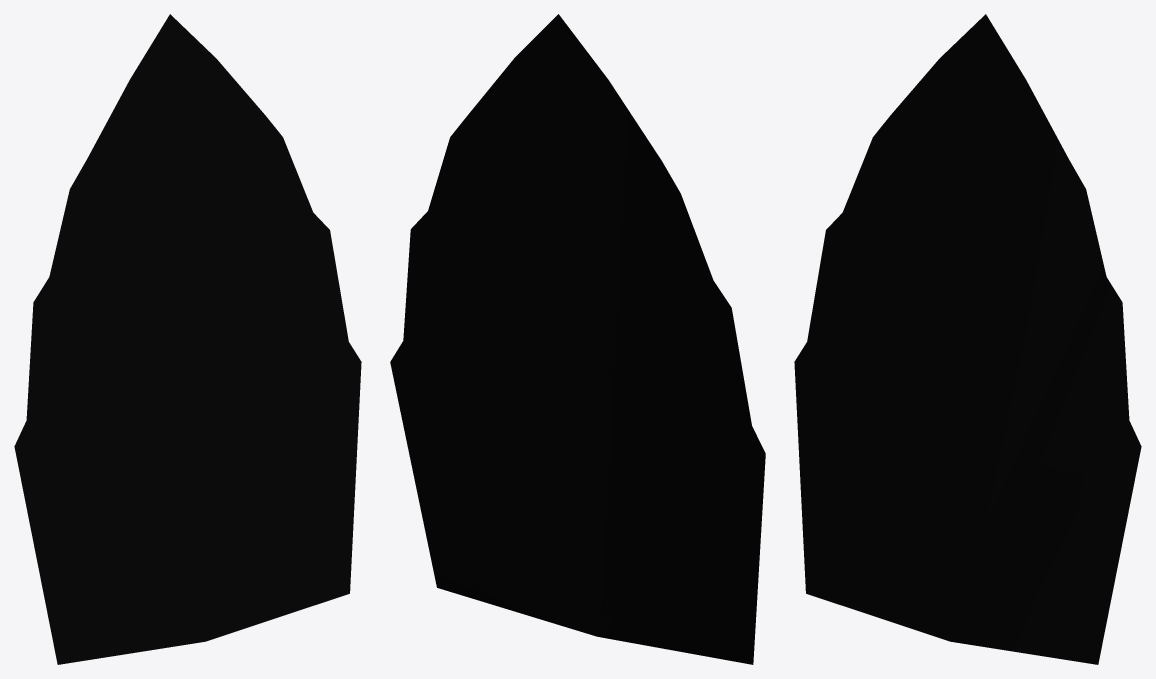
The model's file is palace_window_01.fbx.
3 renders of one model, left to right at view 1: azimuth 30°, elevation 25°; view 2: azimuth 150°, elevation 25°; view 3: azimuth 330°, elevation 25°, orthographic. The views are drawn at different scales.
Parts seen in each view (by area): view 1: palace_tileset/palace_window_mat; view 2: palace_tileset/palace_window_mat; view 3: palace_tileset/palace_window_mat.
Part boxes in pixels (<box>): palace_tileset/palace_window_mat: <box>14,14,361,664</box>; palace_tileset/palace_window_mat: <box>390,14,765,664</box>; palace_tileset/palace_window_mat: <box>794,14,1141,664</box>.
Bounding box in the file's own units: 2.54 × 4.21 × 0.4525.
